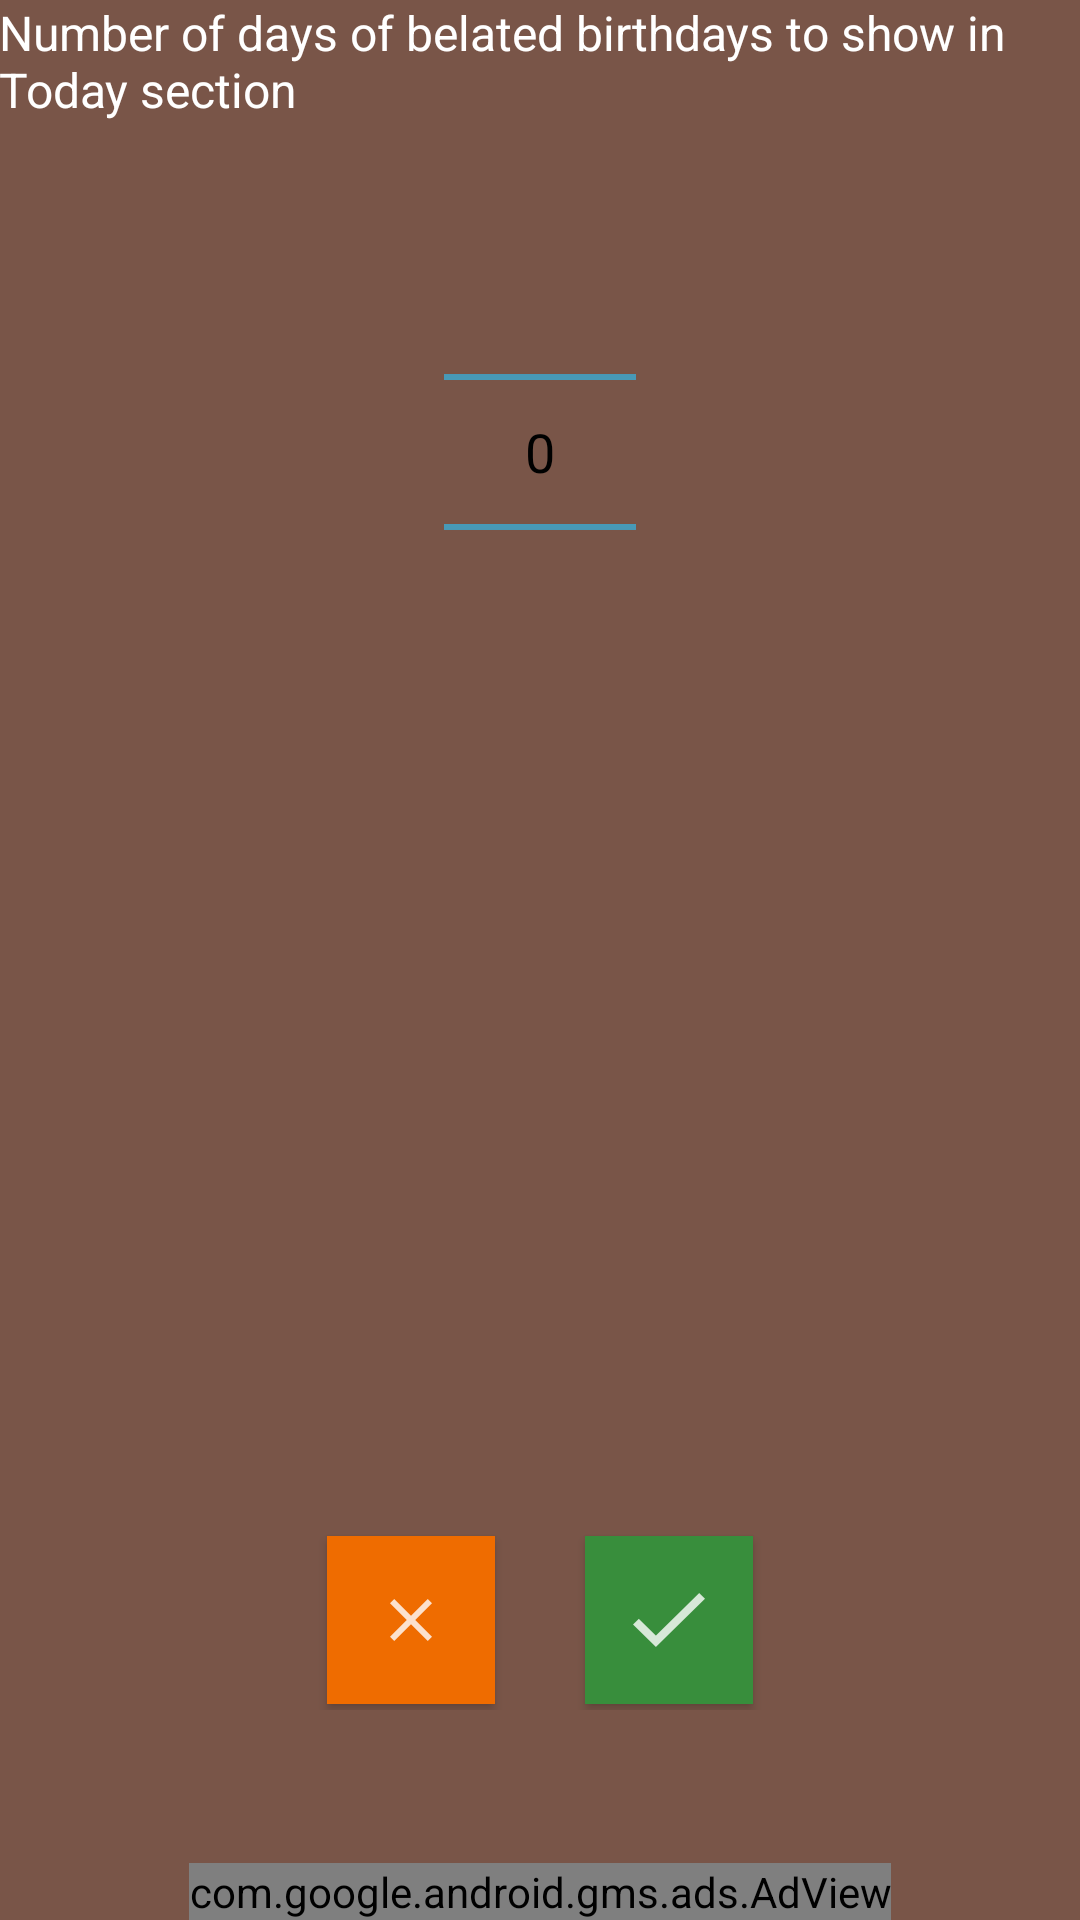

Screen size 1080×1920. Icon name, then its box in pixels as Rect(x1, y1, x2, y2):
cancel: Rect(327, 1536, 495, 1704)
done: Rect(585, 1536, 753, 1704)
